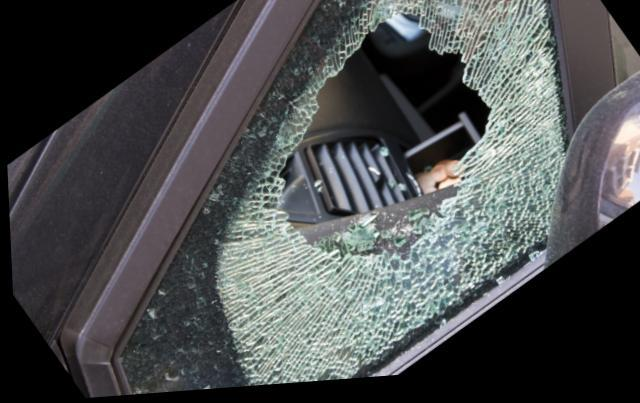glass shatter: (115, 0, 569, 396)
